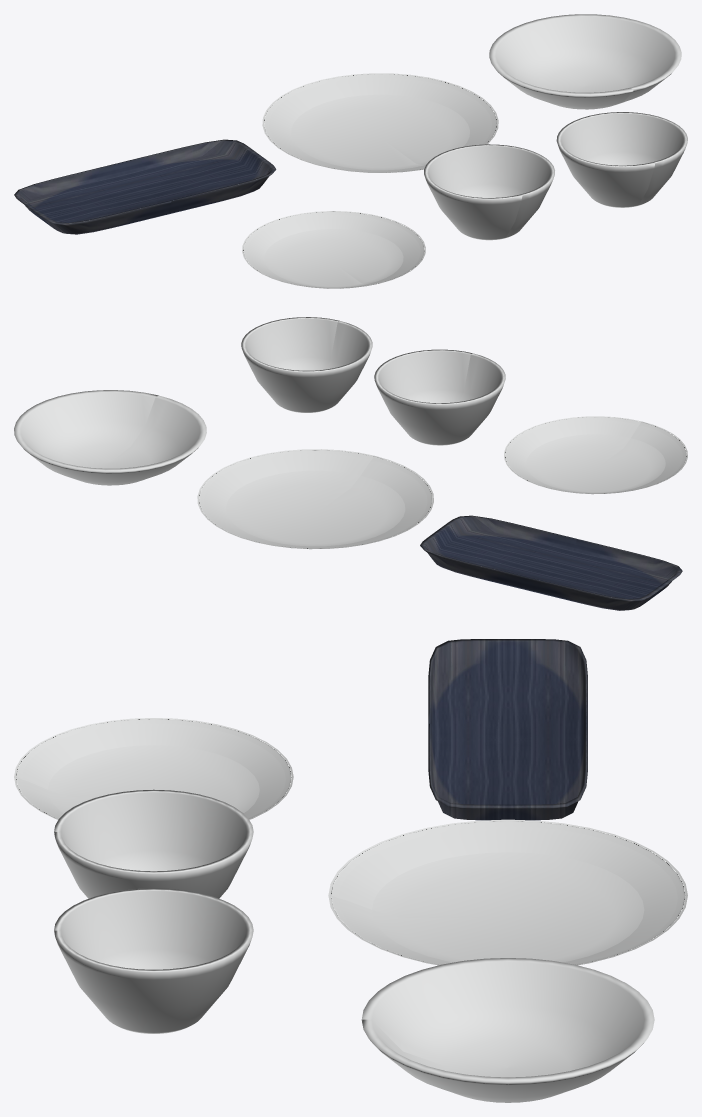
File: FLO-12.glb
3 views of the same model, one above another, from view 1: azimuth 30°, elevation 25°; view 2: azimuth 150°, elevation 25°; view 3: azimuth 270°, elevation 25° (orthographic). The views are drawn at different scales.
Size of the model in its own units: 0.84 by 0.07 by 0.506.
Materials: 6 (1 with a texture image).
